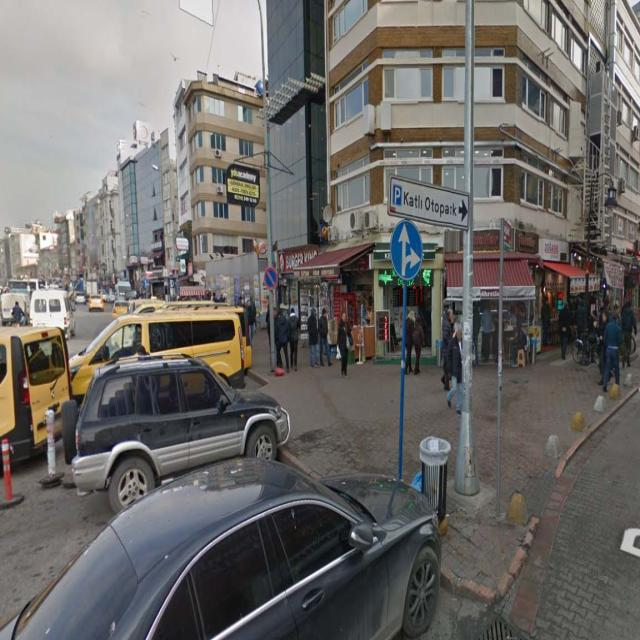ilerisag: (391, 218, 422, 280)
parkyasak: (264, 266, 278, 292)
